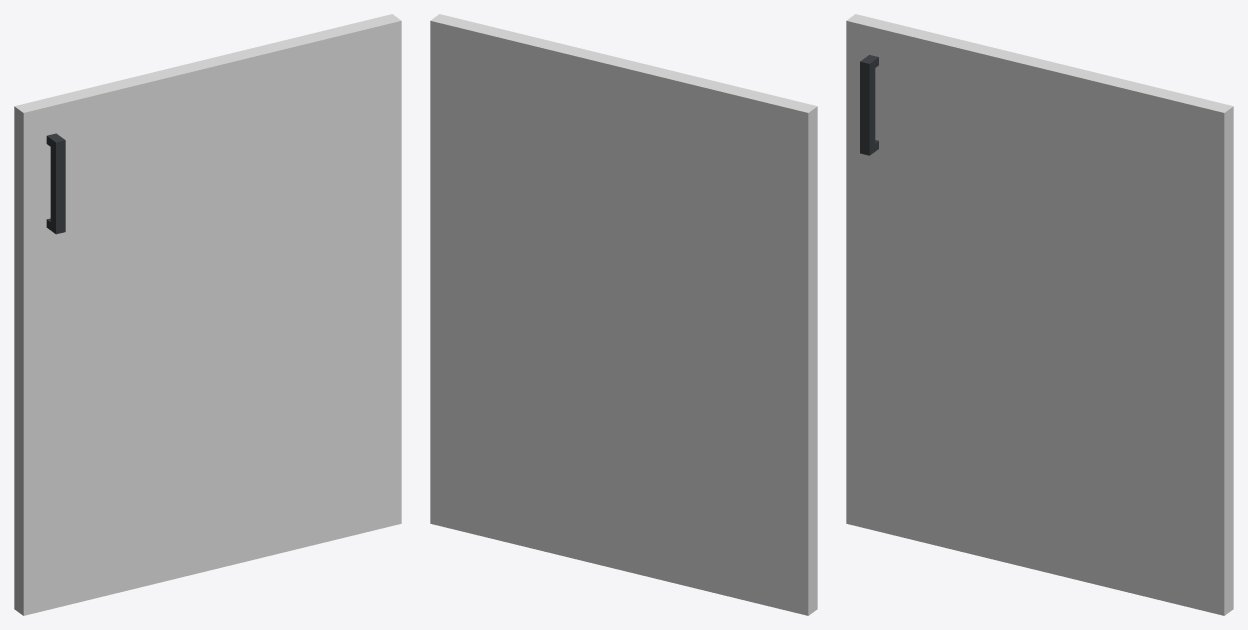
File: Door1_C1_01.fbx
3 views of the same model, side by side, from view 1: azimuth 30°, elevation 25°; view 2: azimuth 150°, elevation 25°; view 3: azimuth 330°, elevation 25° (orthographic).
Visible parts, largest first — view 1: Door1_C1_01; view 2: Door1_C1_01; view 3: Door1_C1_01.
Boxes of the visible parts, left/top/right/bottom form: Door1_C1_01: left=14, top=14, right=401, bottom=615; Door1_C1_01: left=430, top=14, right=817, bottom=615; Door1_C1_01: left=846, top=14, right=1233, bottom=615.
Bounding box in the file's own units: 59 × 75 × 5.03.
